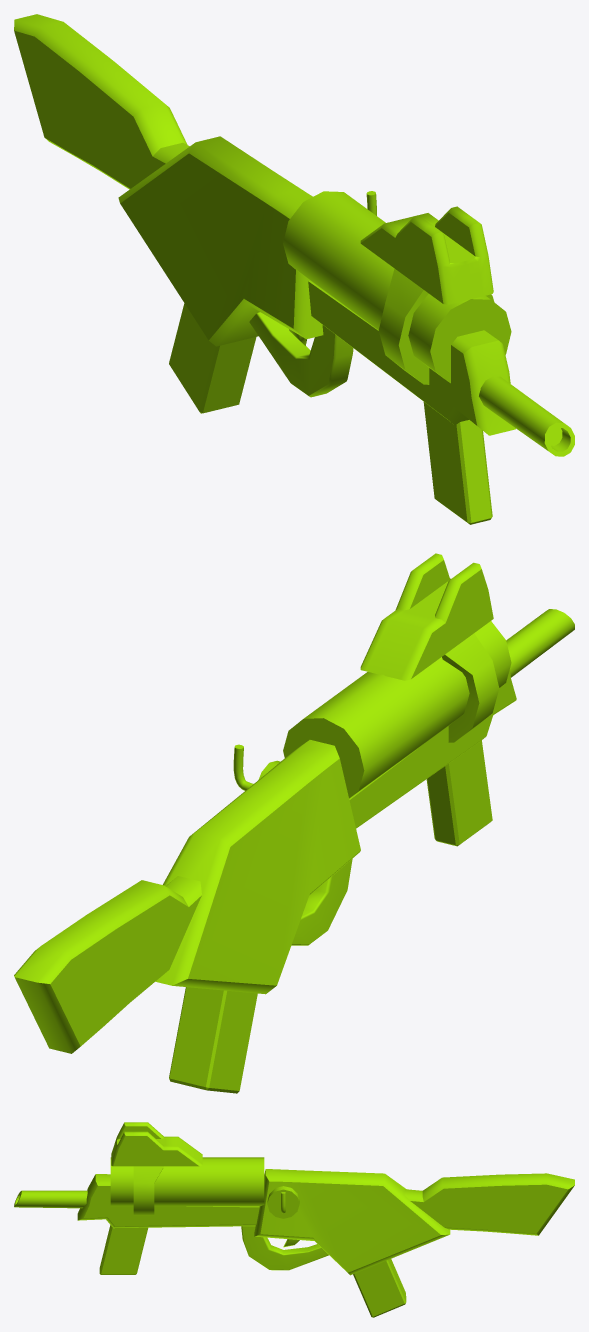
Rendered from object_A_sultRifle_nonGrapple.fbx.
3 views of the same model, one above another, from view 1: azimuth 30°, elevation 25°; view 2: azimuth 150°, elevation 25°; view 3: azimuth 270°, elevation 25° (orthographic). The views are drawn at different scales.
Visible parts, largest first — view 1: A_sultRifle_base, stock, SaltShaker, mag_suport, ironsite, grip, mag, pCube7; view 2: A_sultRifle_base, stock, SaltShaker, ironsite, mag, mag_suport, grip, pCube7; view 3: A_sultRifle_base, stock, SaltShaker, mag_suport, ironsite, mag, grip, pCube7, winding_mech_01.
Part boxes in pixels (left/top/right/bottom): A_sultRifle_base: left=118, top=136, right=323, bottom=346; stock: left=14, top=14, right=189, bottom=189; SaltShaker: left=283, top=191, right=511, bottom=383; mag_suport: left=308, top=281, right=574, bottom=456; ironsite: left=360, top=206, right=494, bottom=384; grip: left=423, top=402, right=492, bottom=524; mag: left=169, top=303, right=256, bottom=413; pCube7: left=249, top=312, right=353, bottom=397; A_sultRifle_base: left=155, top=740, right=360, bottom=994; stock: left=14, top=876, right=201, bottom=1053; SaltShaker: left=283, top=621, right=511, bottom=798; ironsite: left=360, top=553, right=499, bottom=742; mag: left=169, top=987, right=257, bottom=1093; mag_suport: left=349, top=609, right=574, bottom=828; grip: left=426, top=740, right=492, bottom=846; pCube7: left=291, top=859, right=352, bottom=945; A_sultRifle_base: left=254, top=1169, right=450, bottom=1275; stock: left=404, top=1173, right=574, bottom=1235; SaltShaker: left=110, top=1157, right=264, bottom=1206; mag_suport: left=14, top=1174, right=259, bottom=1228; ironsite: left=111, top=1122, right=202, bottom=1215; mag: left=353, top=1259, right=406, bottom=1317; grip: left=99, top=1225, right=148, bottom=1274; pCube7: left=241, top=1226, right=328, bottom=1270; winding_mech_01: left=267, top=1186, right=299, bottom=1218.
Bounding box in the file's own units: 8.85 × 24.79 × 67.97.
